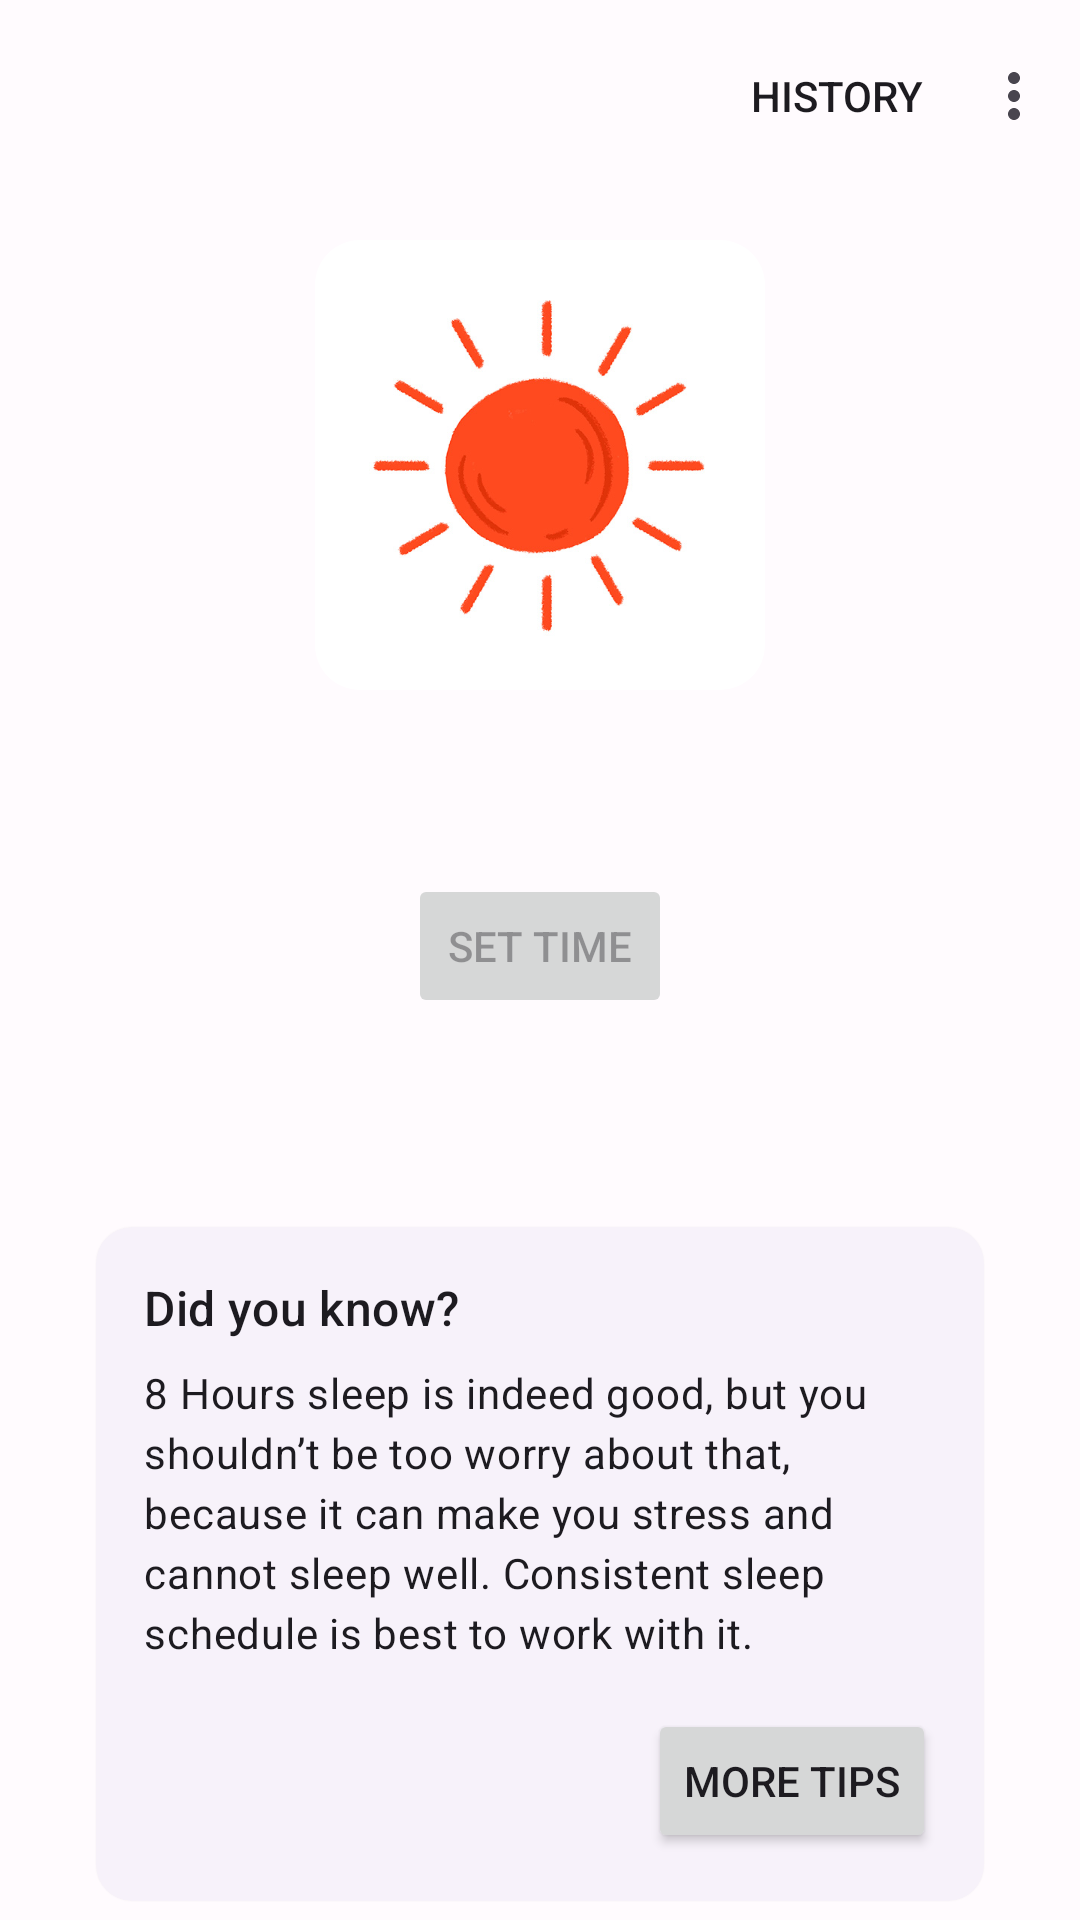

Where to tap for icons on this 1080 × 1920 app screen, as (x,y):
sun: (539,466)
